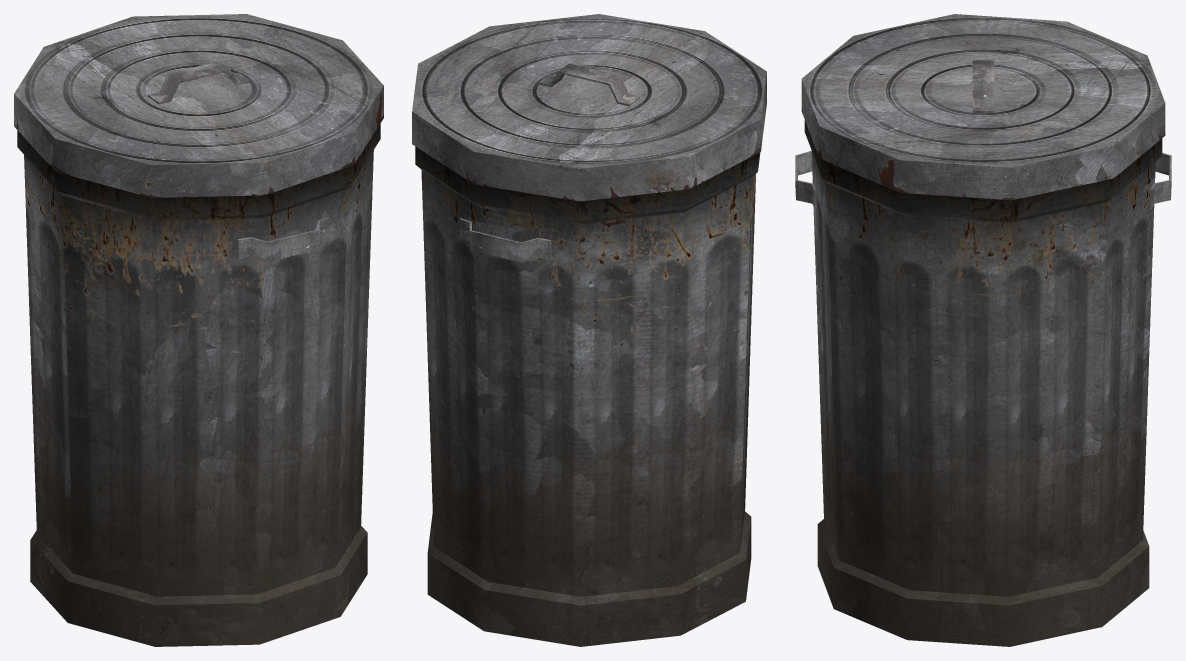
The model's file is Trash_LOD1.fbx.
3 renders of one model, left to right at view 1: azimuth 30°, elevation 25°; view 2: azimuth 150°, elevation 25°; view 3: azimuth 270°, elevation 25°, orthographic.
Parts seen in each view (by area): view 1: Cone01; view 2: Cone01; view 3: Cone01.
Boxes of the visible parts, left/top/right/bottom form: Cone01: left=14, top=14, right=383, bottom=646; Cone01: left=412, top=14, right=766, bottom=646; Cone01: left=795, top=14, right=1171, bottom=646.
Size of the model in its own units: 0.7003 by 1.07 by 0.7249.
